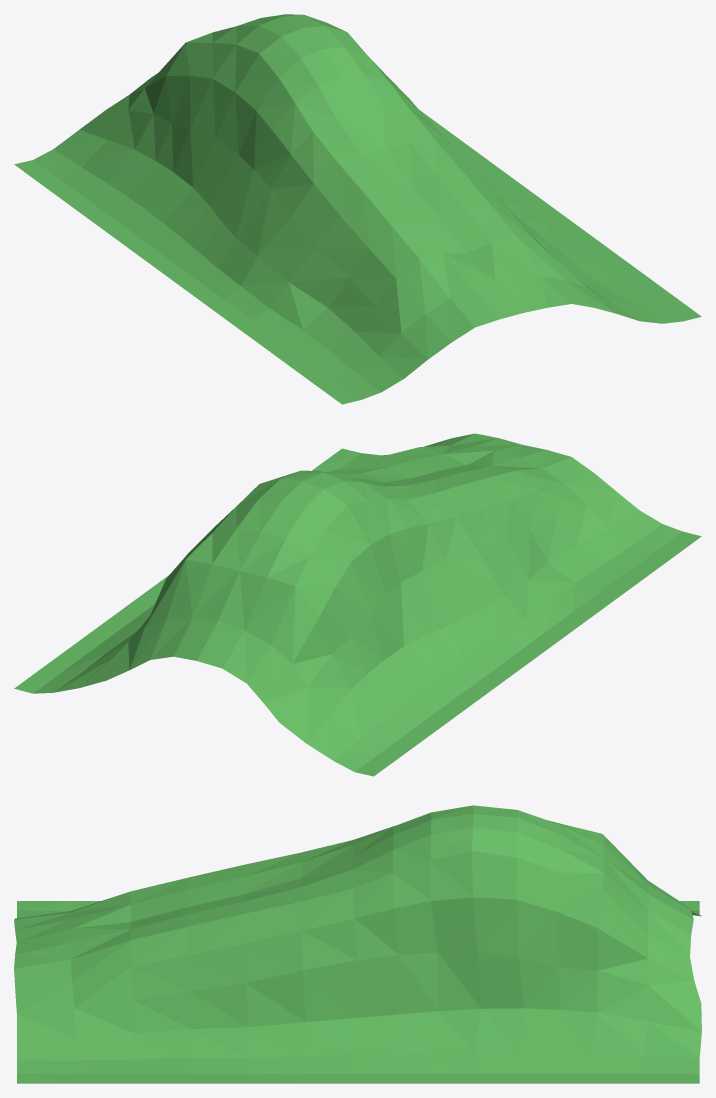
The model's file is blanket_only.fbx.
The picture shows the model from 3 angles, top to bottom: view 1: azimuth 30°, elevation 25°; view 2: azimuth 150°, elevation 25°; view 3: azimuth 270°, elevation 25°; orthographic projection. The views are drawn at different scales.
Visible parts, largest first — view 1: selimut_1; view 2: selimut_1; view 3: selimut_1.
Part boxes in pixels (x1,y1,x2,y2): selimut_1: [14, 14, 701, 404]; selimut_1: [14, 433, 701, 776]; selimut_1: [14, 805, 701, 1083].
Bounding box in the file's own units: 76.61 × 35.01 × 122.
